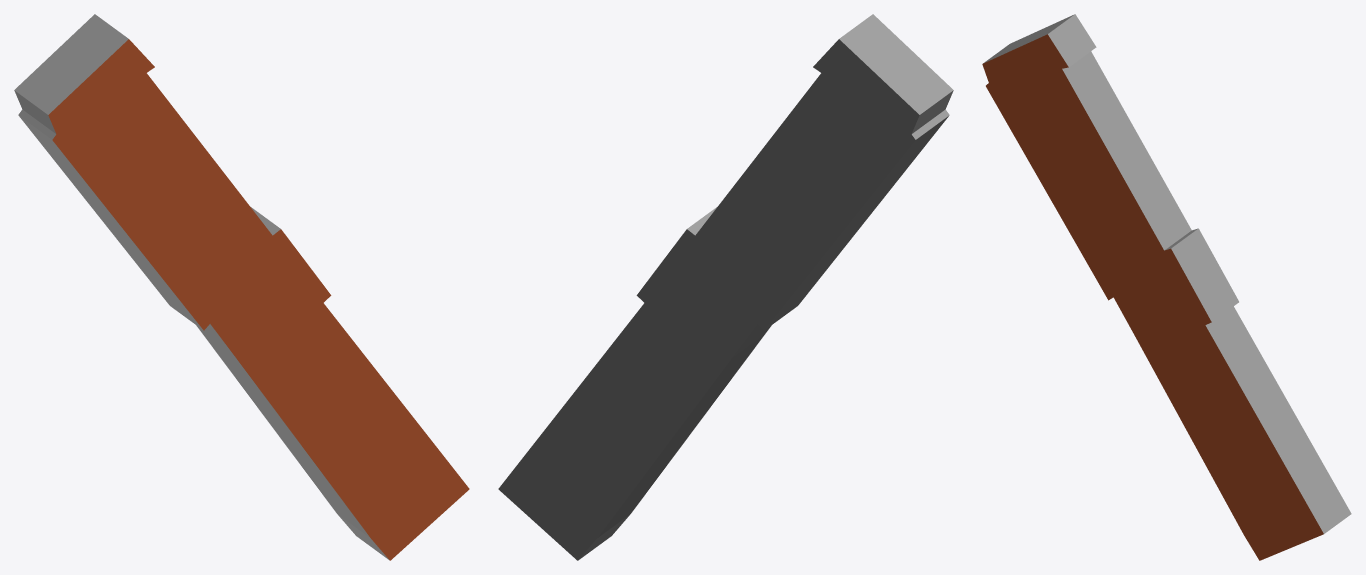
File: construction_4468_assumed_A_Casa_h6m.obj
The picture shows the model from 3 angles, left to right: view 1: azimuth 30°, elevation 25°; view 2: azimuth 150°, elevation 25°; view 3: azimuth 330°, elevation 25°; orthographic projection. The views are drawn at different scales.
Parts seen in each view (by area): view 1: construction_4468_assumed_A_Casa; view 2: construction_4468_assumed_A_Casa; view 3: construction_4468_assumed_A_Casa.
Boxes of the visible parts, x1,y1,x2,y2 form: construction_4468_assumed_A_Casa: [14, 14, 469, 560]; construction_4468_assumed_A_Casa: [498, 14, 953, 560]; construction_4468_assumed_A_Casa: [982, 14, 1351, 560].
Size of the model in its own units: 42.83 by 56.88 by 6.
